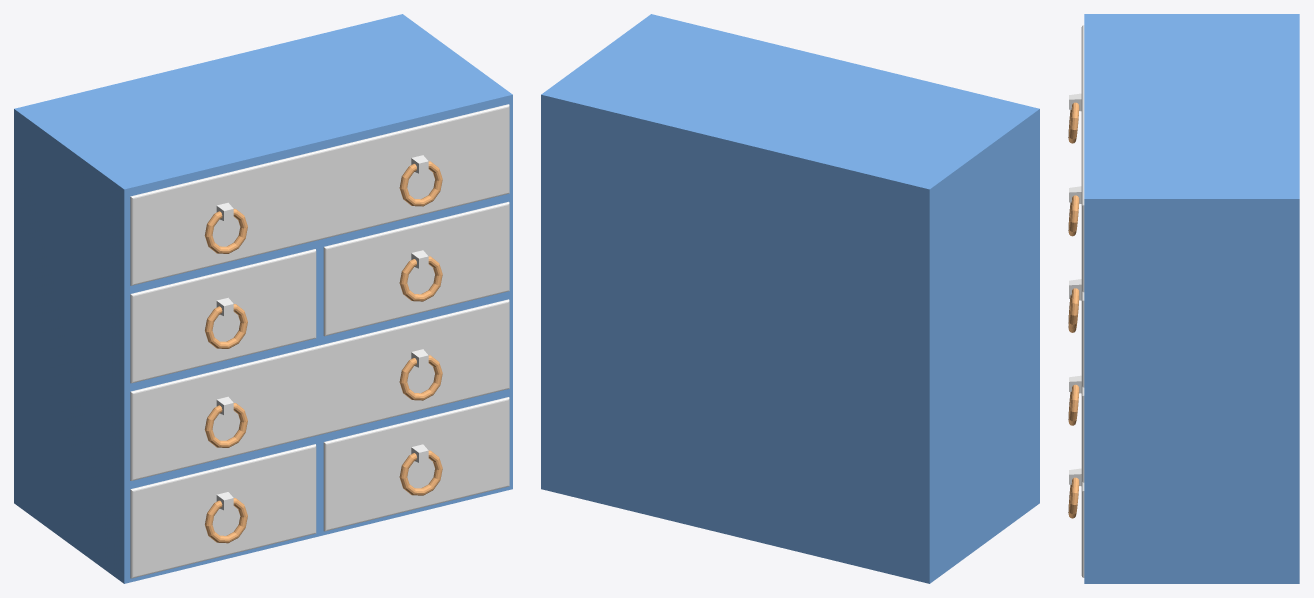
Rendered from Wardrobe_22.fbx.
The picture shows the model from 3 angles, left to right: view 1: azimuth 30°, elevation 25°; view 2: azimuth 150°, elevation 25°; view 3: azimuth 270°, elevation 25°; orthographic projection. The views are drawn at different scales.
Parts seen in each view (by area): view 1: Wardrobe_22, Wardrobe_22 Door_1, Wardrobe_22 Door_4, Wardrobe_22 Door_3, Wardrobe_22 Door_5, Wardrobe_22 Door_6, Wardrobe_22 Door_2; view 2: Wardrobe_22; view 3: Wardrobe_22, Wardrobe_22 Door_1, Wardrobe_22 Door_4, Wardrobe_22 Door_3, Wardrobe_22 Door_6.
Part boxes in pixels (bbox=[...]): Wardrobe_22: bbox=[14, 14, 512, 583]; Wardrobe_22 Door_1: bbox=[130, 104, 509, 285]; Wardrobe_22 Door_4: bbox=[130, 299, 509, 480]; Wardrobe_22 Door_3: bbox=[323, 201, 509, 336]; Wardrobe_22 Door_5: bbox=[130, 444, 316, 578]; Wardrobe_22 Door_6: bbox=[323, 397, 509, 531]; Wardrobe_22 Door_2: bbox=[130, 249, 316, 383]; Wardrobe_22: bbox=[541, 14, 1039, 583]; Wardrobe_22: bbox=[1084, 14, 1299, 583]; Wardrobe_22 Door_1: bbox=[1068, 25, 1084, 292]; Wardrobe_22 Door_4: bbox=[1068, 295, 1084, 482]; Wardrobe_22 Door_3: bbox=[1068, 279, 1084, 387]; Wardrobe_22 Door_6: bbox=[1068, 468, 1084, 577].
Bounding box in the file's own units: 1.15 × 1.11 × 0.6048.
